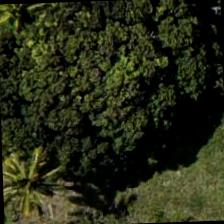Kelapa_Sawit: (1, 133, 93, 223), (0, 1, 81, 60)
